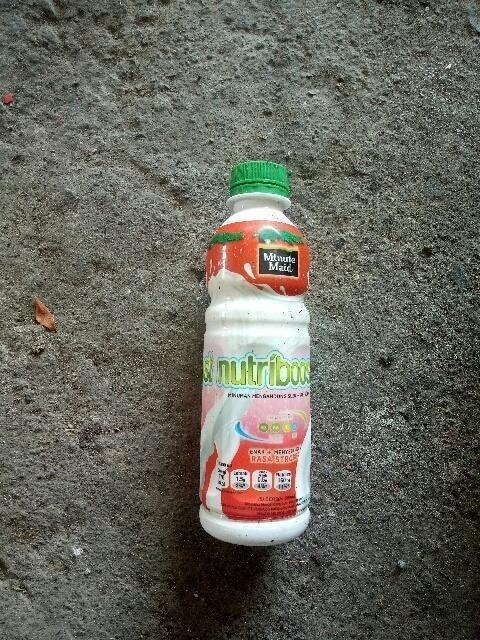bottle-plastic: (197, 156, 315, 548)
